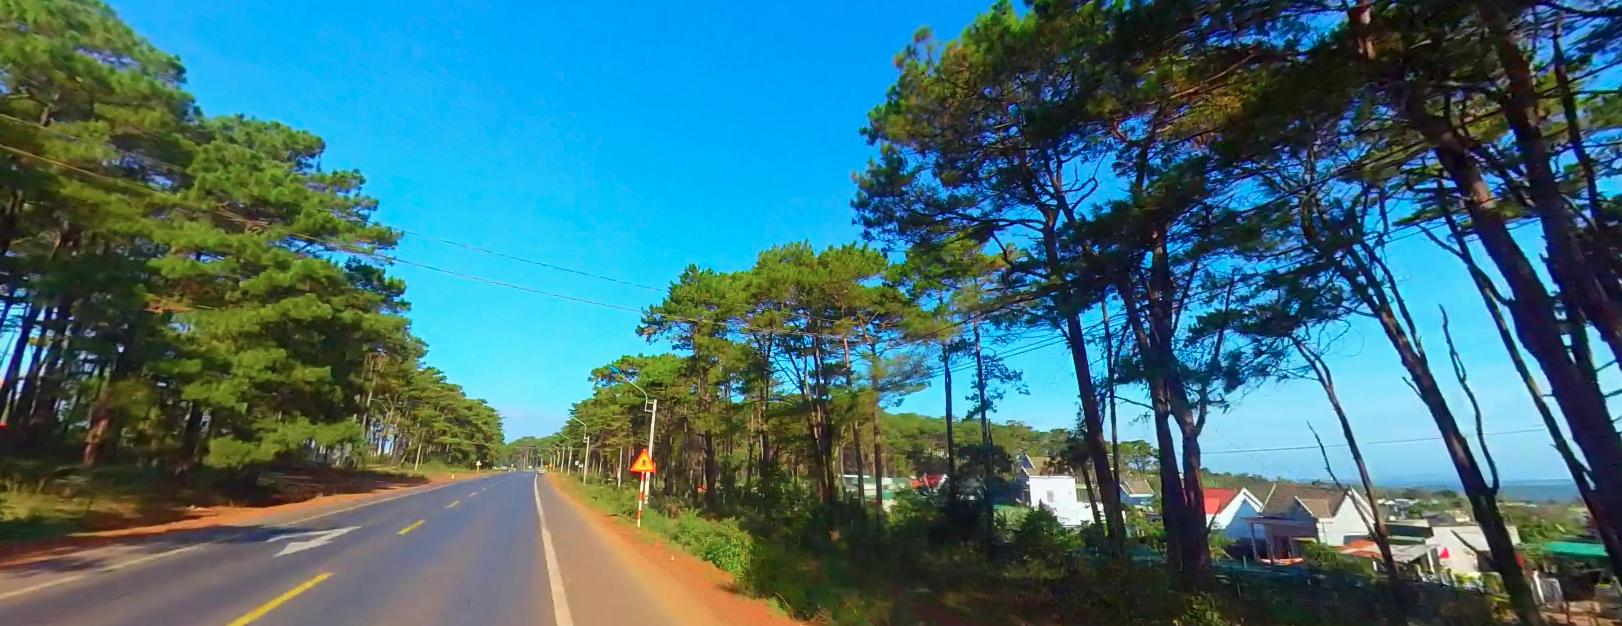Nguy hiem: (629, 447, 655, 471), (630, 448, 652, 470)
